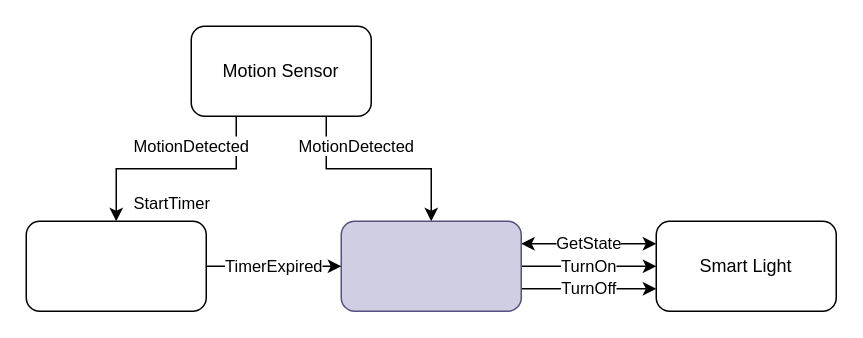
Some shapes in this 863 by 338 pixel diagram are drawn without their labels. Each missing label, with the centre of its shape:
App: point 430,265
Timer: point 115,265
